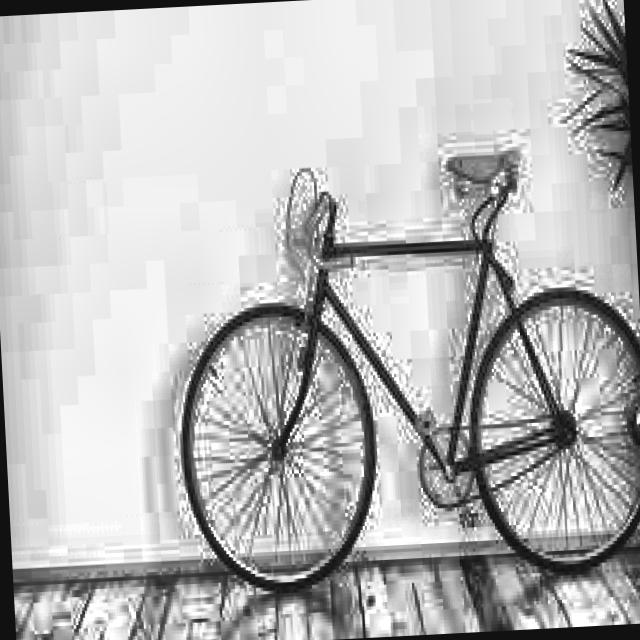bicycle: (151, 130, 640, 603)
